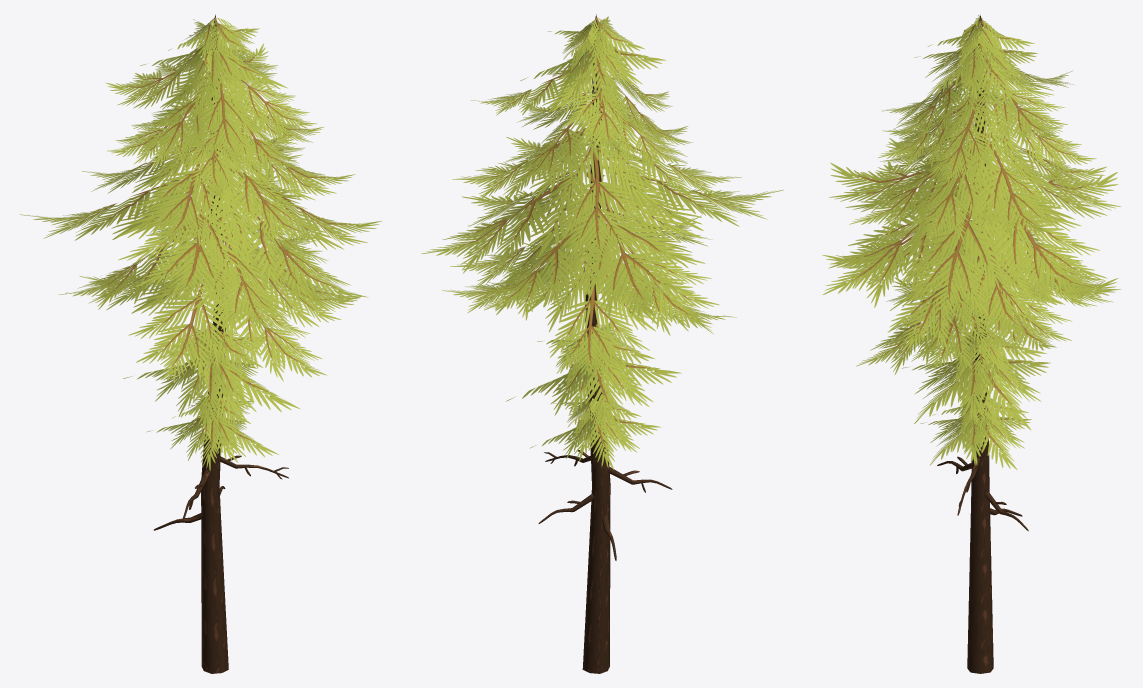
Rendered from Pine Trees.glb.
3 renders of one model, left to right at view 1: azimuth 30°, elevation 25°; view 2: azimuth 150°, elevation 25°; view 3: azimuth 270°, elevation 25°, orthographic.
Parts seen in each view (by area): view 1: PineTree_2; view 2: PineTree_2; view 3: PineTree_2.
Boxes of the visible parts, x1,y1,x2,y2 form: PineTree_2: [19, 14, 381, 673]; PineTree_2: [421, 14, 783, 673]; PineTree_2: [822, 14, 1121, 673].
Bounding box in the file's own units: 3.28 × 6.91 × 2.98.
Materials: 2 (2 with a texture image).
